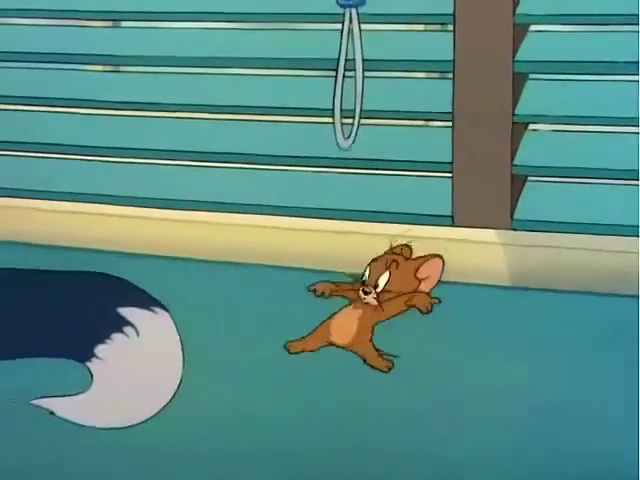jerry: (262, 211, 457, 372)
